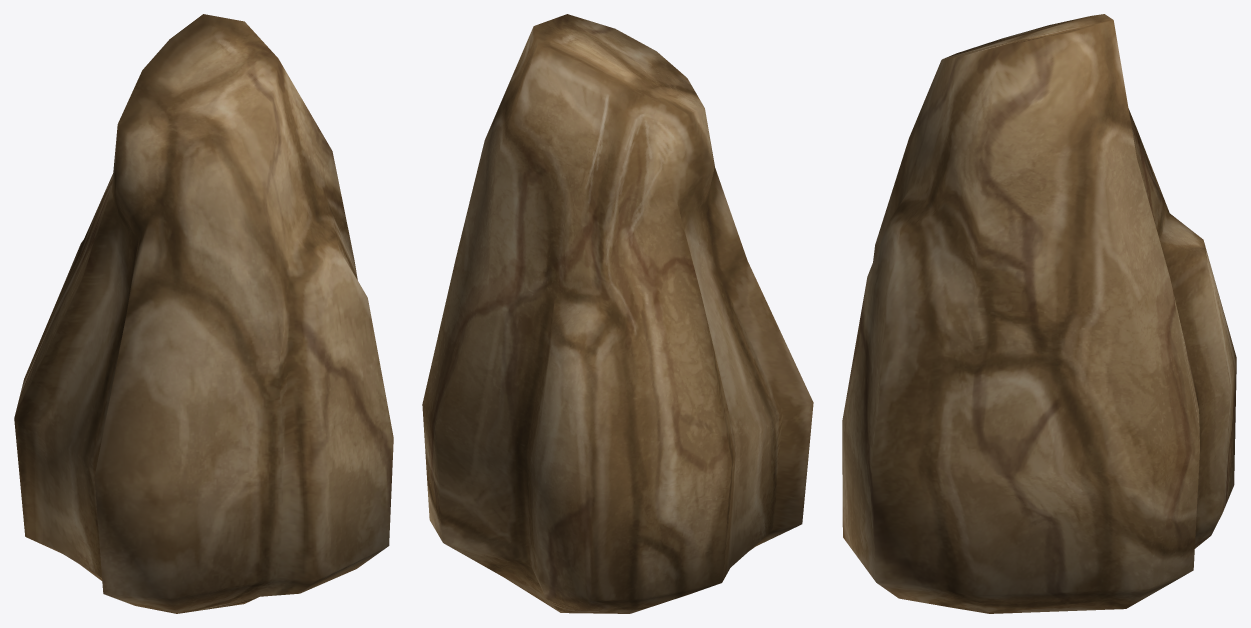
The model's file is desert rock tall.FBX.
3 views of the same model, side by side, from view 1: azimuth 30°, elevation 25°; view 2: azimuth 150°, elevation 25°; view 3: azimuth 270°, elevation 25° (orthographic). The views are drawn at different scales.
Parts seen in each view (by area): view 1: desert rock tall; view 2: desert rock tall; view 3: desert rock tall.
Boxes of the visible parts, x1,y1,x2,y2 form: desert rock tall: (14, 14, 393, 613); desert rock tall: (422, 14, 813, 613); desert rock tall: (842, 14, 1236, 613).
Size of the model in its own units: 2.21 by 3.87 by 2.31.
